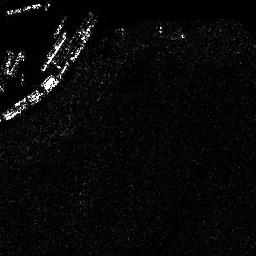ship: (5, 1, 51, 15)
